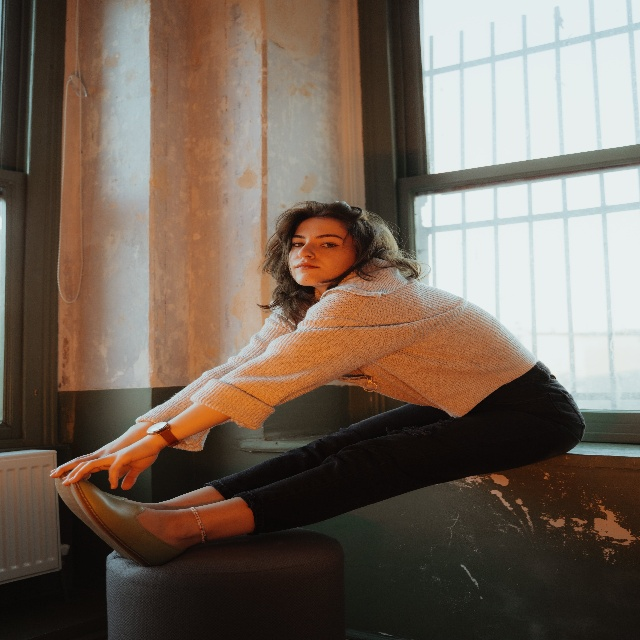Sin_guantes: (61, 435, 160, 490), (50, 427, 138, 479)
